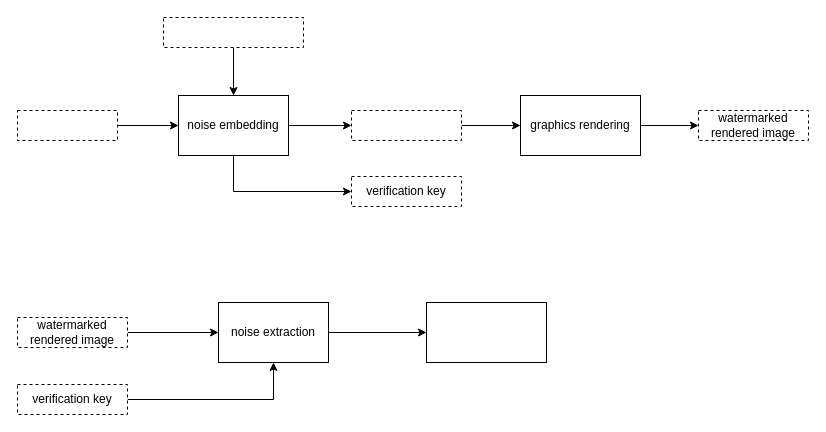
Image size: 826x432. Some labels were removed from this diagram. Each missing label, with the centre of its shape:
graphics scene: (x=67, y=125)
noise feature verification: (x=486, y=332)
noise parameters + seed: (x=233, y=32)
watermarked graphics scene: (x=406, y=125)
